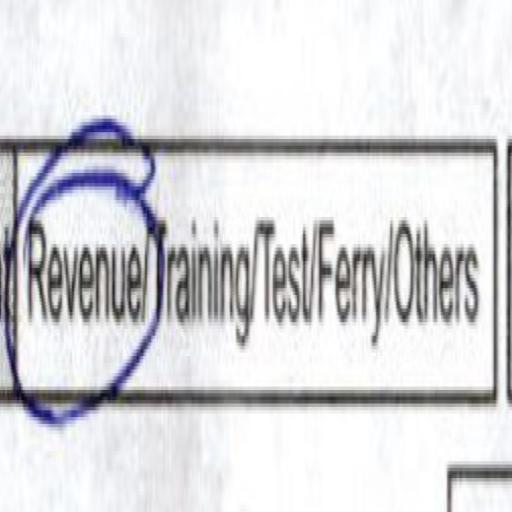check: (14, 67, 155, 451)
